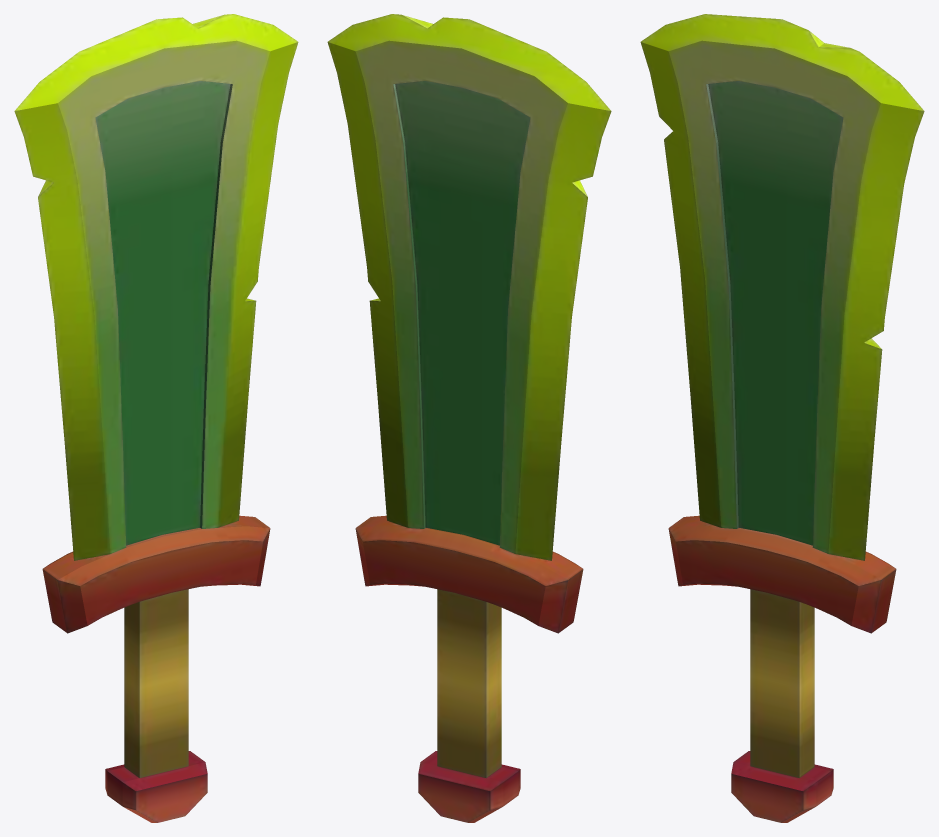
Rendered from espada_08.glb.
3 views of the same model, side by side, from view 1: azimuth 30°, elevation 25°; view 2: azimuth 150°, elevation 25°; view 3: azimuth 330°, elevation 25° (orthographic).
Visible parts, largest first — view 1: ASSET_8_OK_8_All_0; view 2: ASSET_8_OK_8_All_0; view 3: ASSET_8_OK_8_All_0.
Part boxes in pixels (box(x1,y1,x2,y2)): ASSET_8_OK_8_All_0: box(14, 14, 298, 822); ASSET_8_OK_8_All_0: box(327, 14, 611, 822); ASSET_8_OK_8_All_0: box(640, 14, 924, 822).
Bounding box in the file's own units: 2.15 × 5.76 × 0.3998.
1 material, 1 textured.
